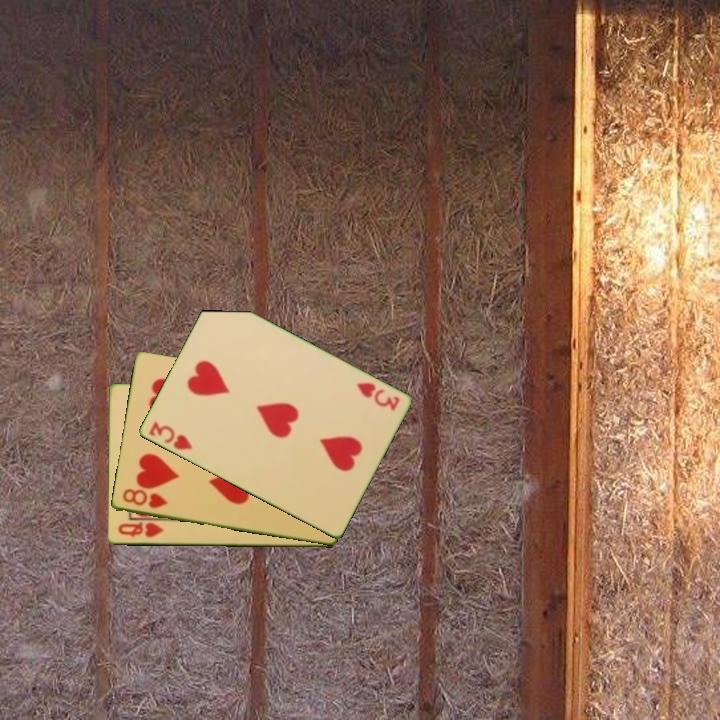3h: (145, 418, 195, 453), (353, 379, 402, 414)
8h: (118, 486, 170, 511)
Qh: (115, 519, 166, 540)
